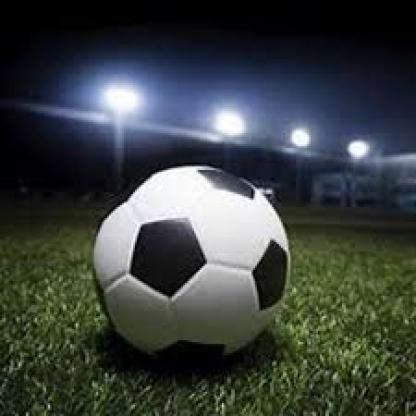ball: (91, 166, 291, 364)
